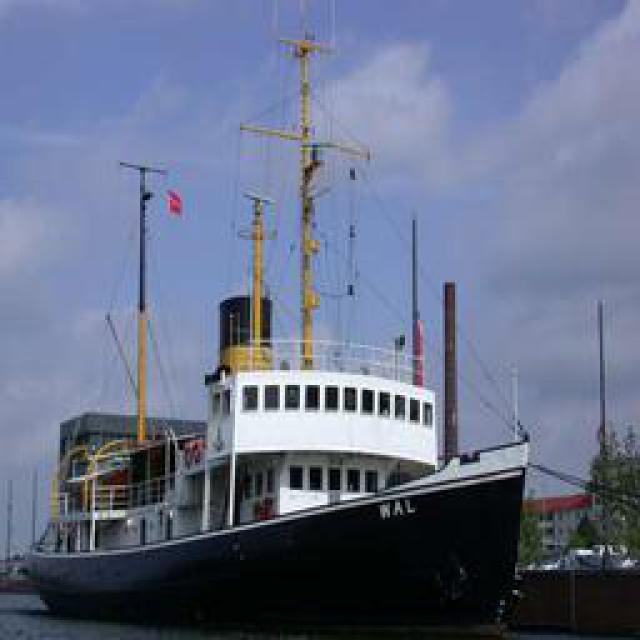Ship: (34, 71, 539, 626)
